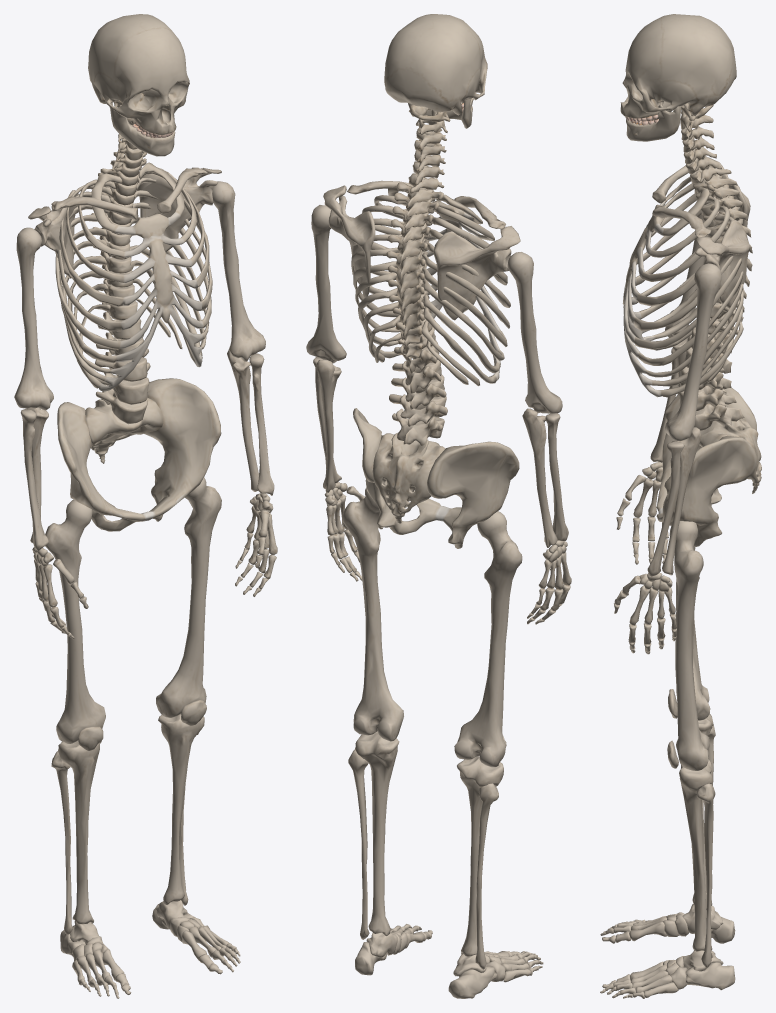
Rendered from best.glb.
3 renders of one model, left to right at view 1: azimuth 30°, elevation 25°; view 2: azimuth 150°, elevation 25°; view 3: azimuth 270°, elevation 25°, orthographic.
Visible parts, largest first — view 1: best; view 2: best; view 3: best.
Part boxes in pixels (x1=…): best: x1=14, y1=14, x2=277, y2=998; best: x1=306, y1=14, x2=571, y2=998; best: x1=600, y1=14, x2=761, y2=998.
Size of the model in its own units: 0.4373 by 1.58 by 0.2453.
10 materials, 10 textured.
